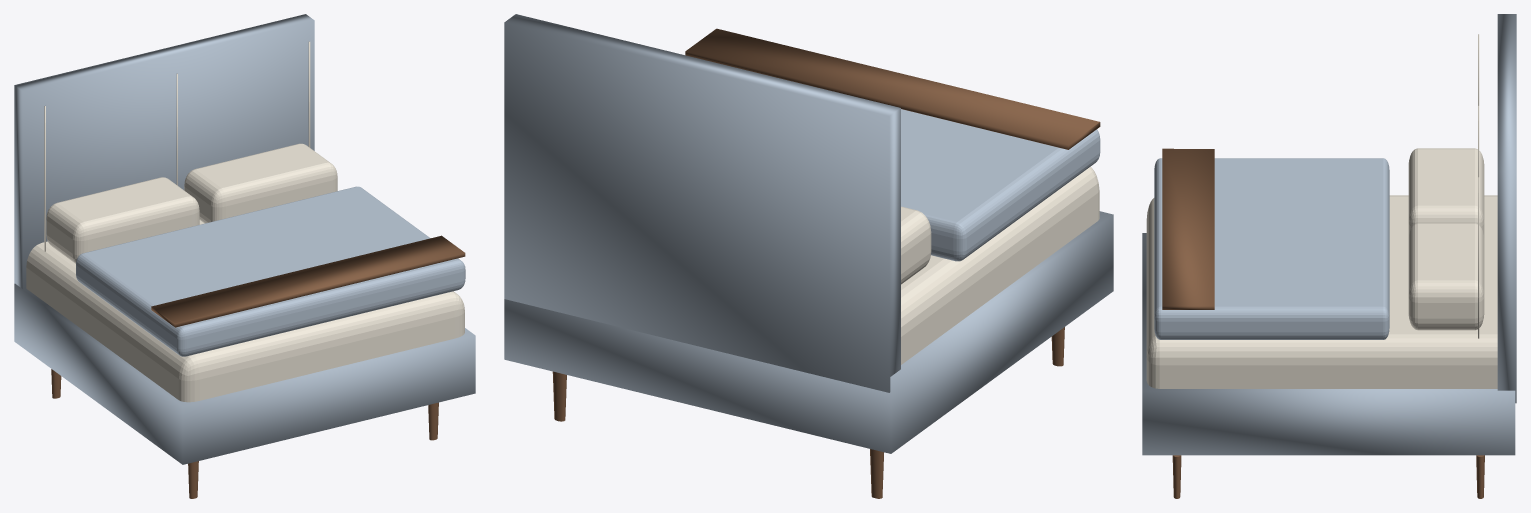
Rendered from bed-2-2.lod.glb.
3 views of the same model, side by side, from view 1: azimuth 30°, elevation 25°; view 2: azimuth 150°, elevation 25°; view 3: azimuth 270°, elevation 25° (orthographic). The views are drawn at different scales.
Visible parts, largest first — view 1: upholstery, tailored-cushion, part; view 2: upholstery, part, tailored-cushion; view 3: upholstery, tailored-cushion, part.
Boxes of the visible parts, <box> form: upholstery: <box>14,14,475,464</box>; tailored-cushion: <box>26,41,464,402</box>; part: <box>51,235,465,498</box>; upholstery: <box>504,14,1113,453</box>; part: <box>552,28,1100,498</box>; tailored-cushion: <box>901,167,1099,364</box>; upholstery: <box>1142,14,1516,455</box>; tailored-cushion: <box>1146,34,1497,388</box>; part: <box>1162,148,1484,498</box>.
Size of the model in its own units: 1 by 1 by 1.
